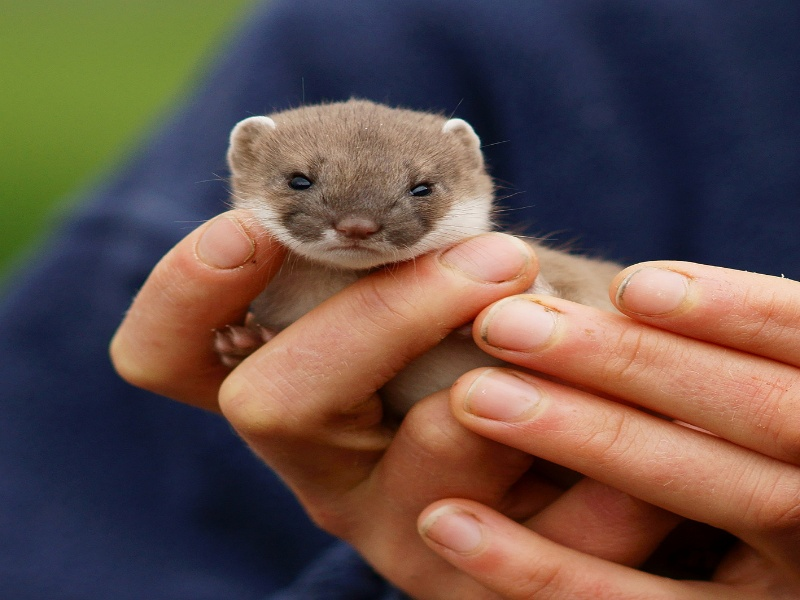minkish: (184, 89, 645, 448)
